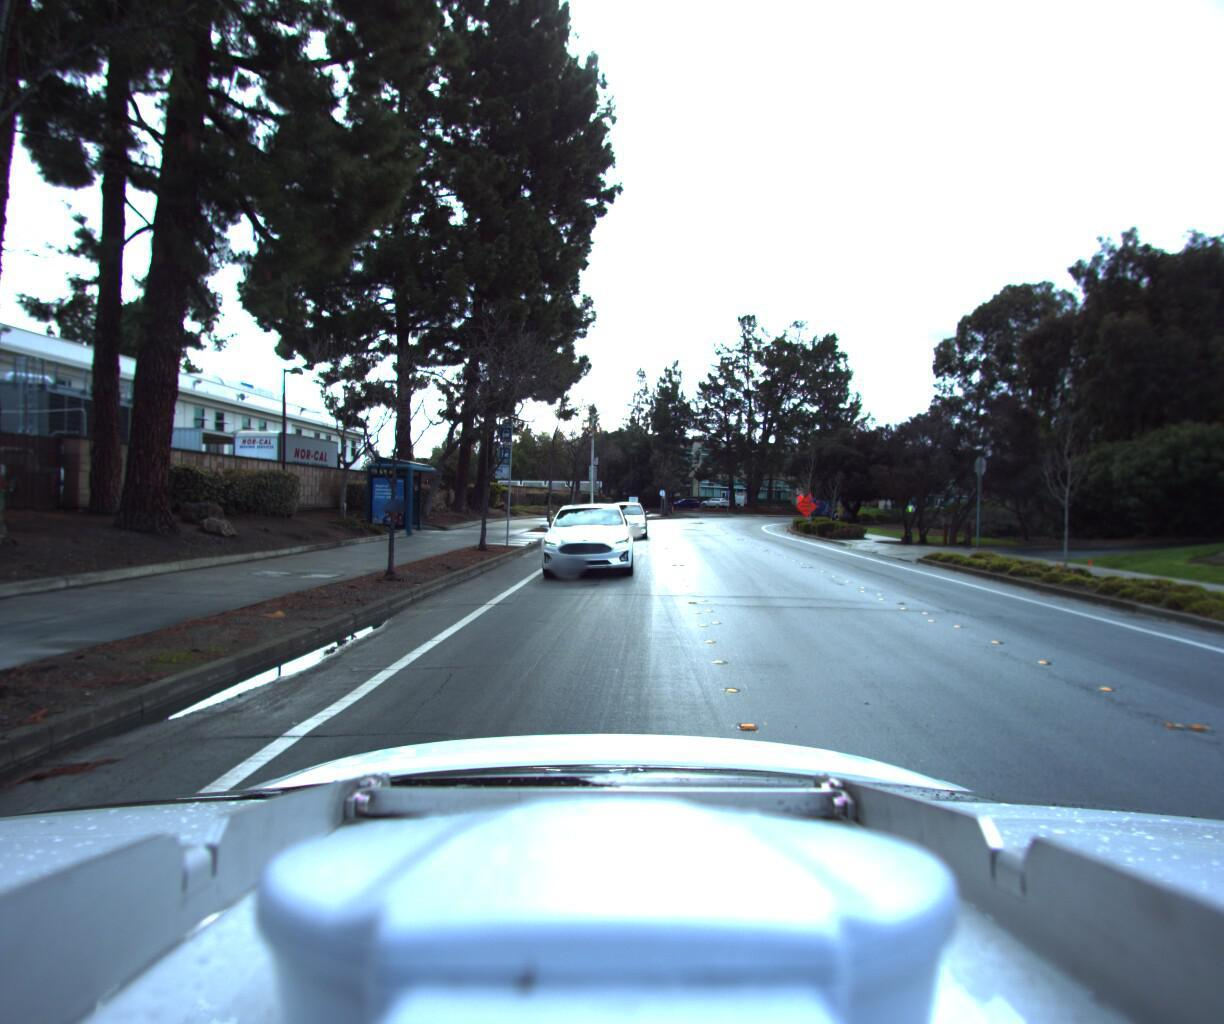bus: (805, 489, 865, 520)
car: (532, 500, 637, 581), (600, 500, 649, 541)
truck: (211, 423, 345, 505)
